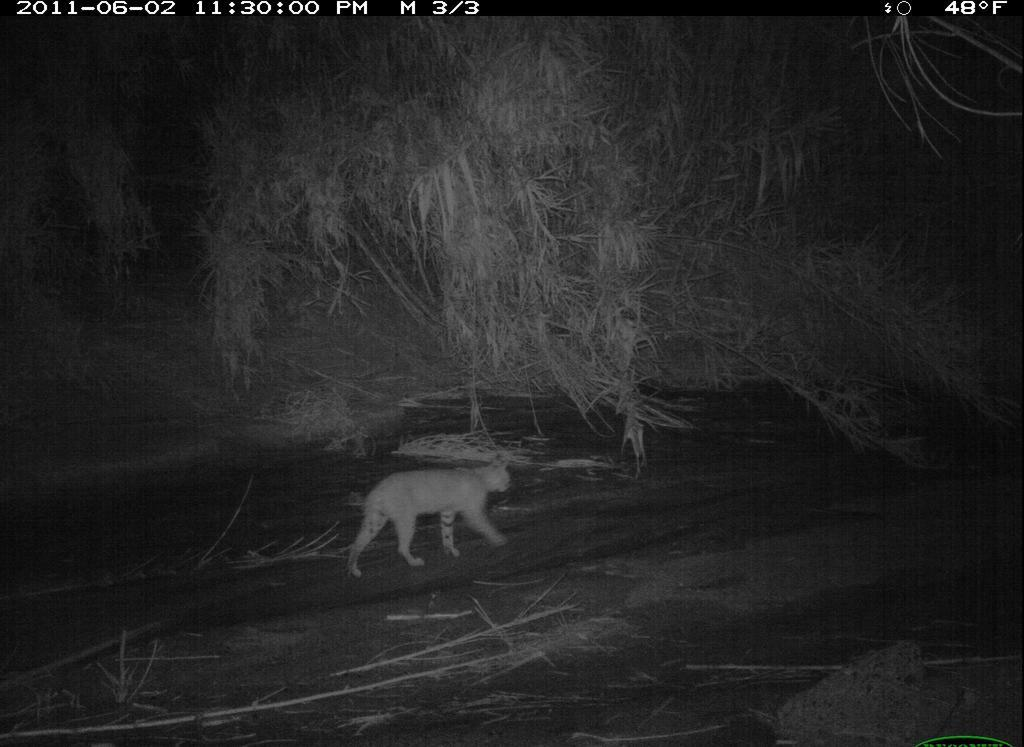bobcat: (332, 443, 543, 588)
